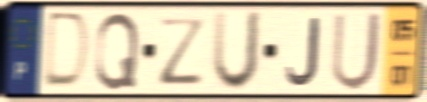D: (40, 9, 93, 93)
J: (284, 15, 321, 88)
Q: (93, 10, 142, 93)
U: (209, 8, 265, 95), (329, 10, 385, 94)
Z: (157, 15, 209, 87)
